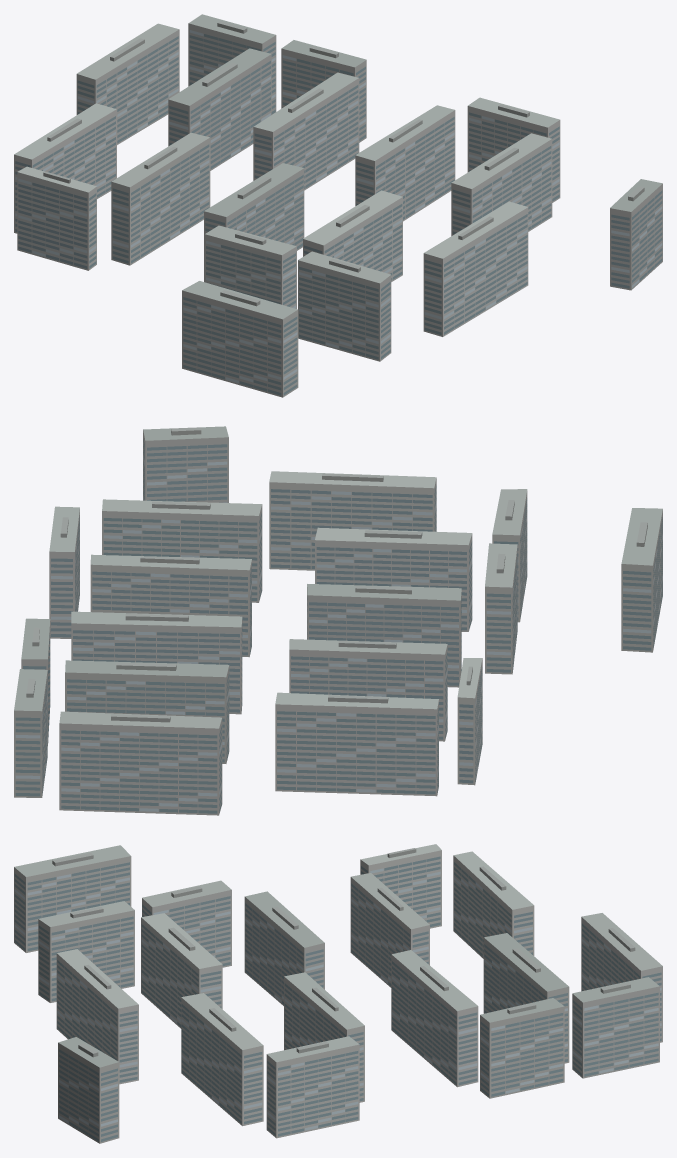
File: apt-a15807707.glb
3 views of the same model, one above another, from view 1: azimuth 30°, elevation 25°; view 2: azimuth 150°, elevation 25°; view 3: azimuth 270°, elevation 25° (orthographic). The views are drawn at different scales.
Parts seen in each view (by area): view 1: apt-a15807707; view 2: apt-a15807707; view 3: apt-a15807707.
Part boxes in pixels (<box>): apt-a15807707: <box>14,14,662,397</box>; apt-a15807707: <box>14,426,662,815</box>; apt-a15807707: <box>14,844,662,1143</box>.
Size of the model in its own units: 289 by 48 by 354.
